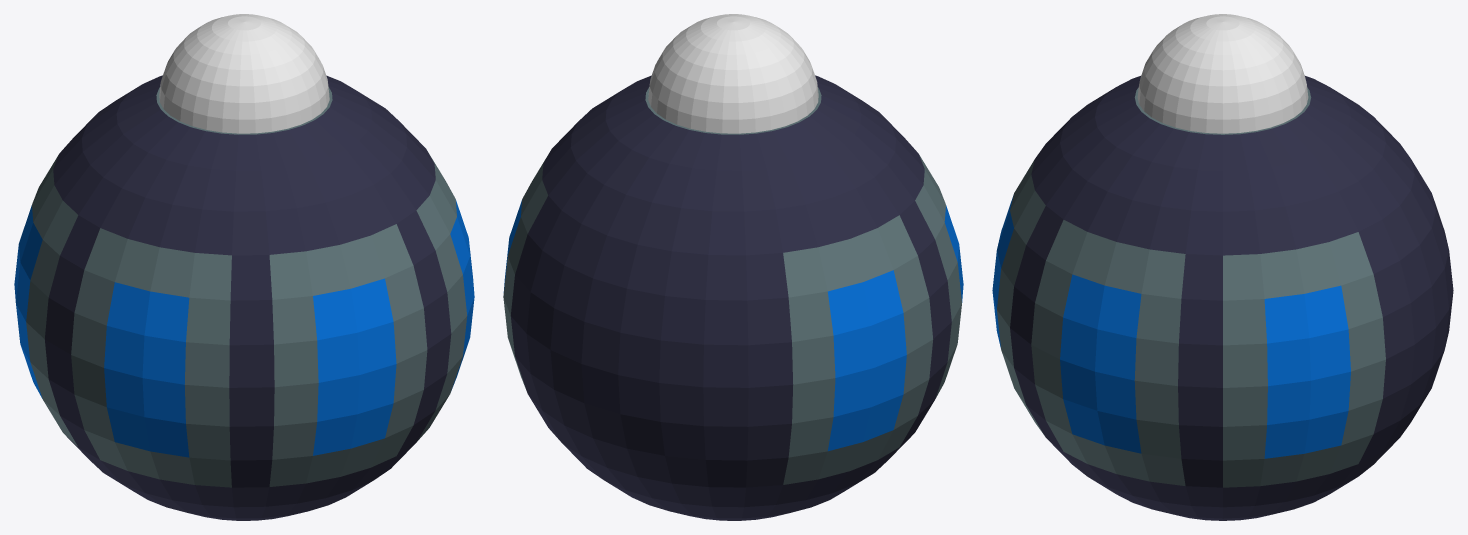
The model's file is boss body.fbx.
3 views of the same model, side by side, from view 1: azimuth 30°, elevation 25°; view 2: azimuth 150°, elevation 25°; view 3: azimuth 270°, elevation 25° (orthographic).
Visible parts, largest first — view 1: Sphere, Sphere.001; view 2: Sphere, Sphere.001; view 3: Sphere, Sphere.001.
Boxes of the visible parts, bbox=[...] form: Sphere: bbox=[14, 75, 474, 520]; Sphere.001: bbox=[159, 14, 329, 133]; Sphere: bbox=[503, 75, 963, 520]; Sphere.001: bbox=[648, 14, 818, 133]; Sphere: bbox=[992, 76, 1453, 520]; Sphere.001: bbox=[1137, 14, 1308, 133].
Size of the model in its own units: 200 by 229 by 200.
